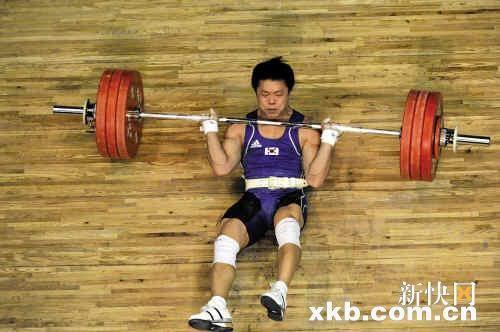Fall-Detected: (187, 51, 343, 323)
